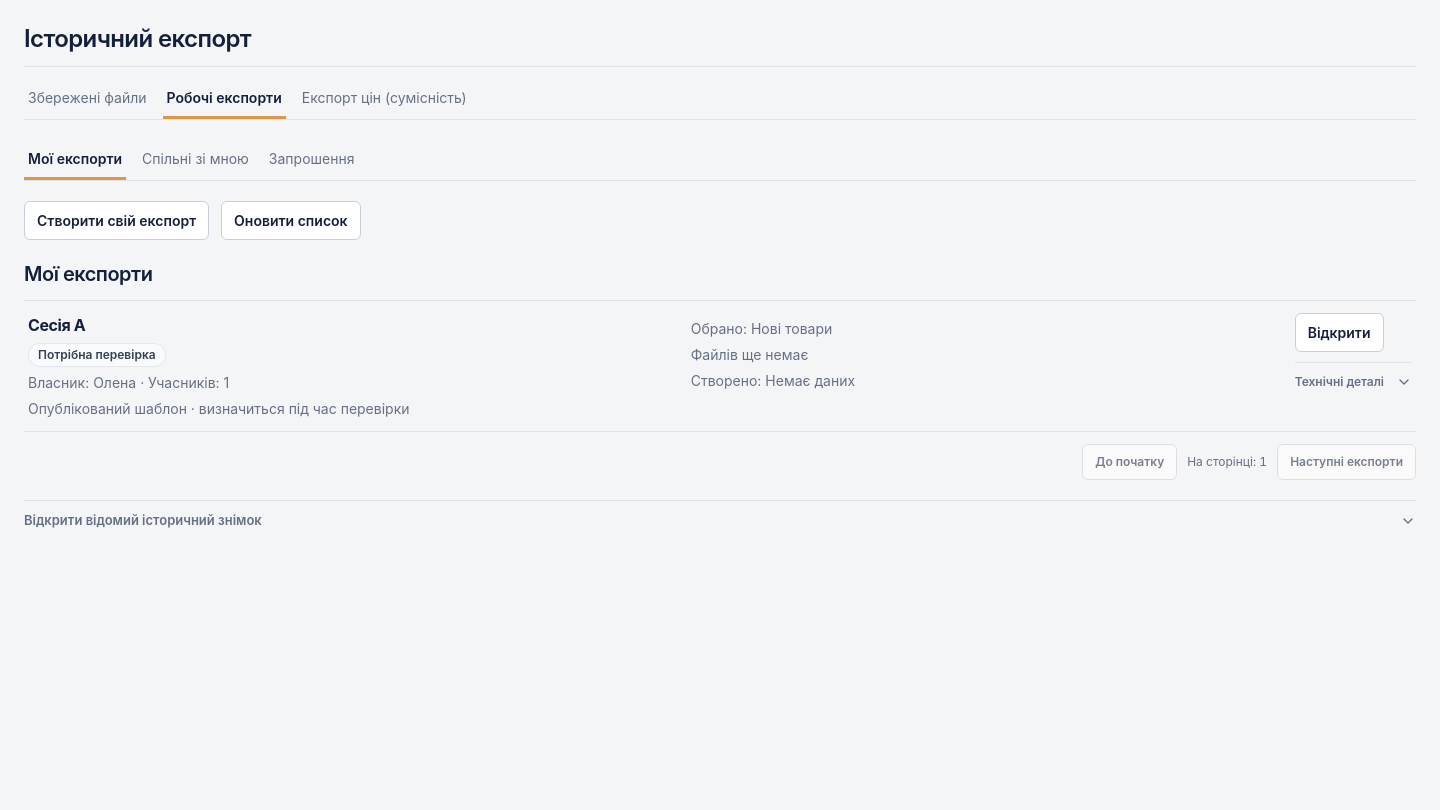
Test case: definitive creation validation failure allows correction, while unknown outcome retries the exact descriptor
Expected: the heading "Сесія A" is shown, [28,315,85,335]
Click the button "Створити свій експорт" at coordinates (117, 220), box [24,201,209,240]
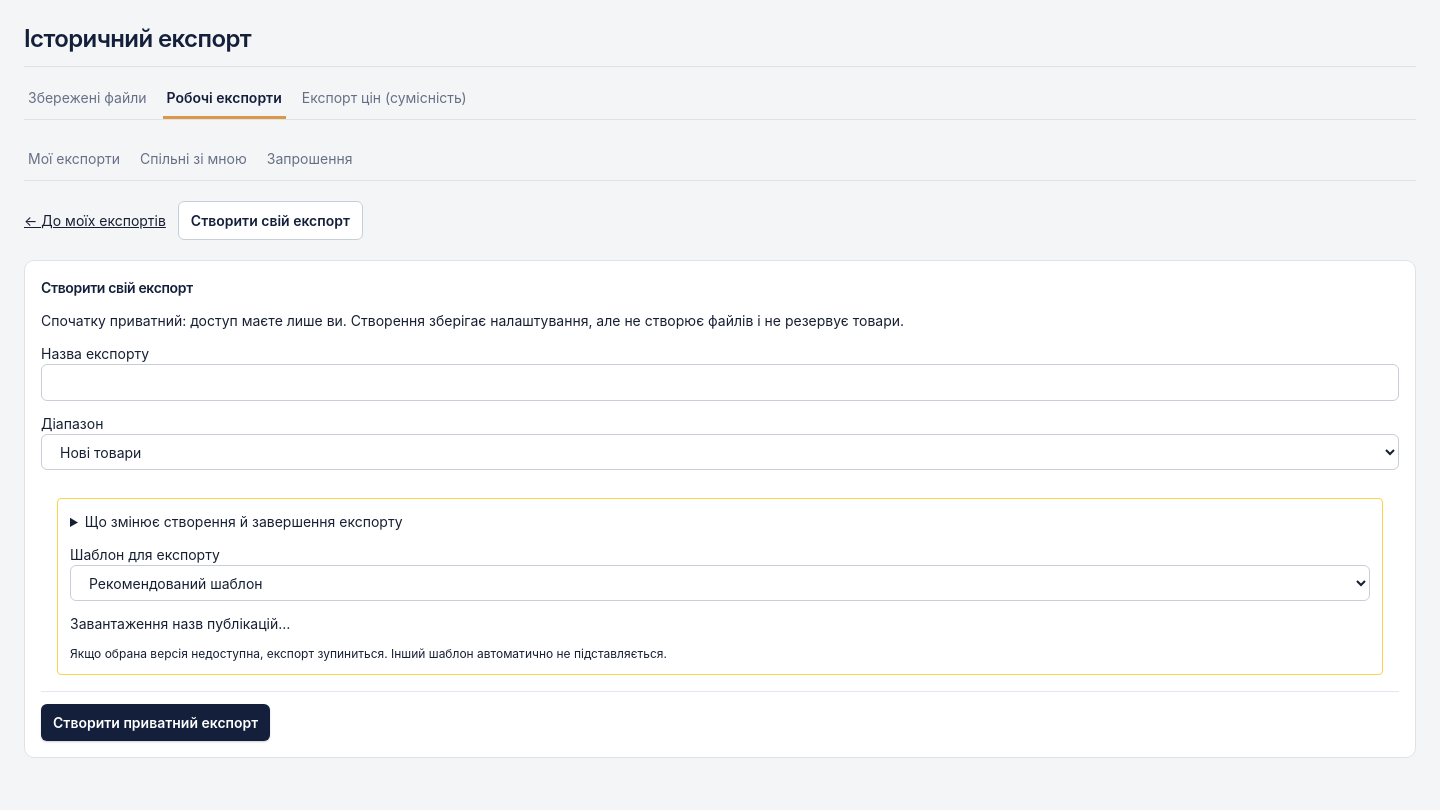
Type "Initial title" into the field labelled "Назва експорту" at coordinates (720, 382), box [41,364,1399,401]
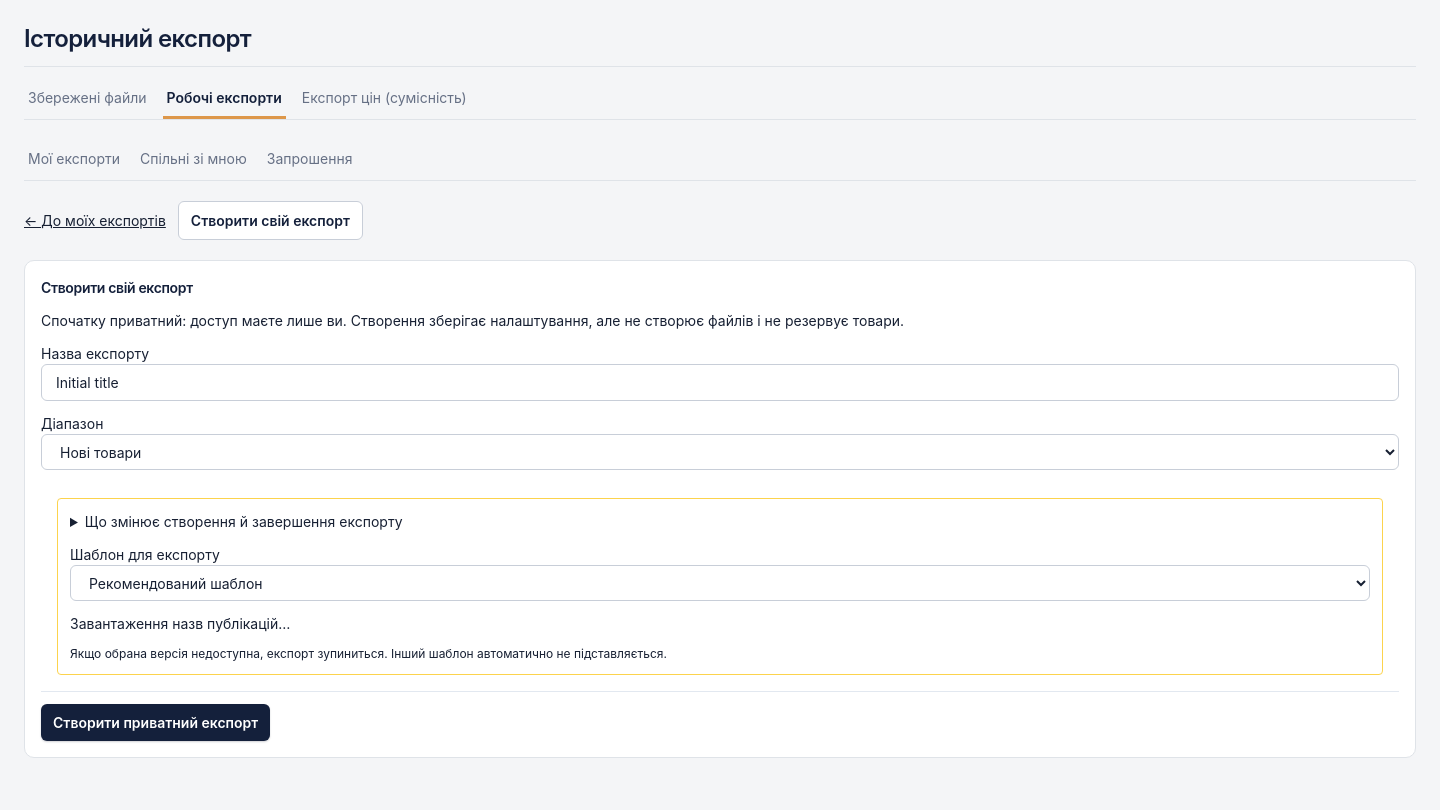
Click the button "Створити приватний експорт" at coordinates (156, 722), box [41,704,270,741]
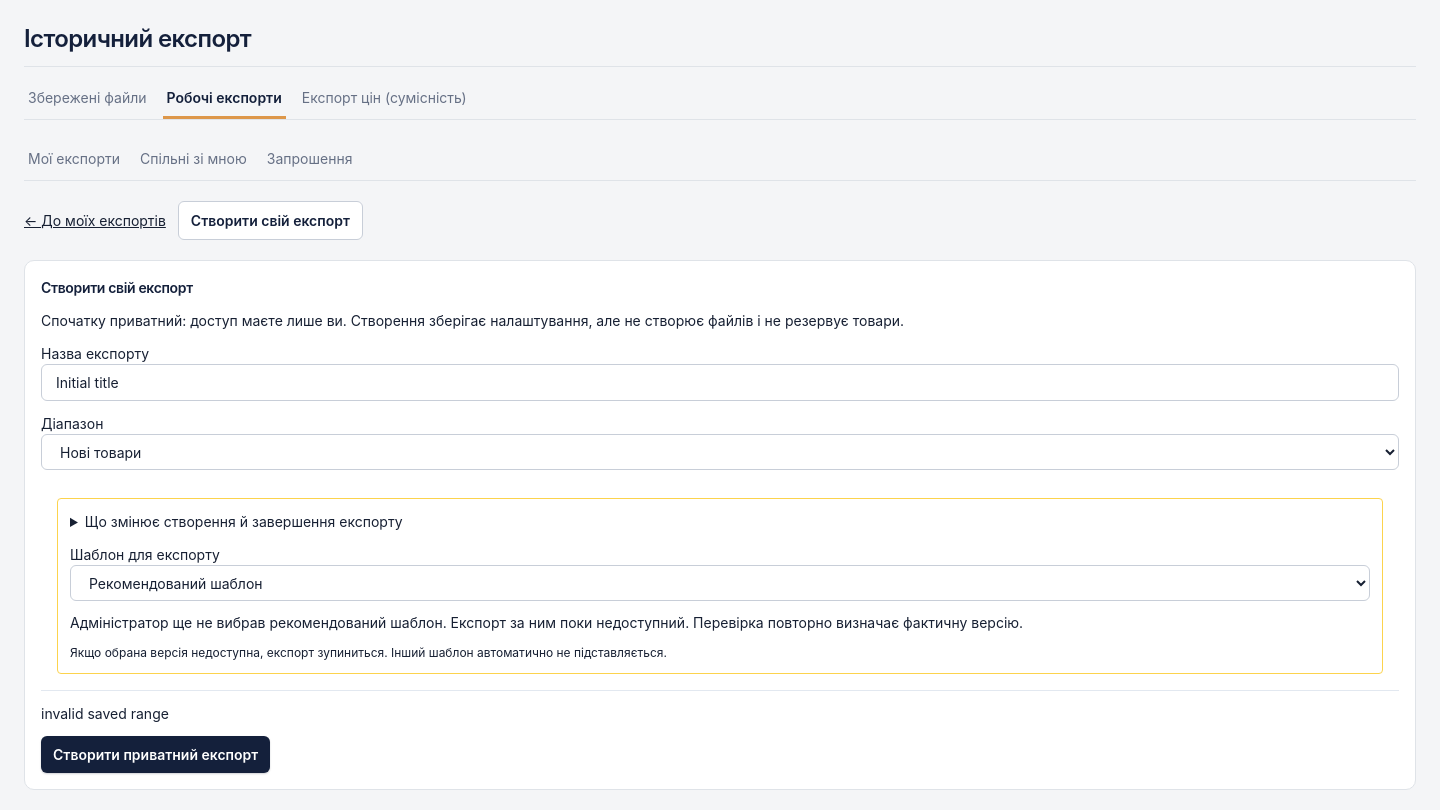
Expected: the element labelled "Назва експорту" is enabled, [41,343,1399,691]
Expected: the text "invalid saved range" is shown, [41,705,169,722]
Replace the text in the field labelled "Назва експорту" with "Corrected title" at coordinates (720, 382), box [41,364,1399,401]
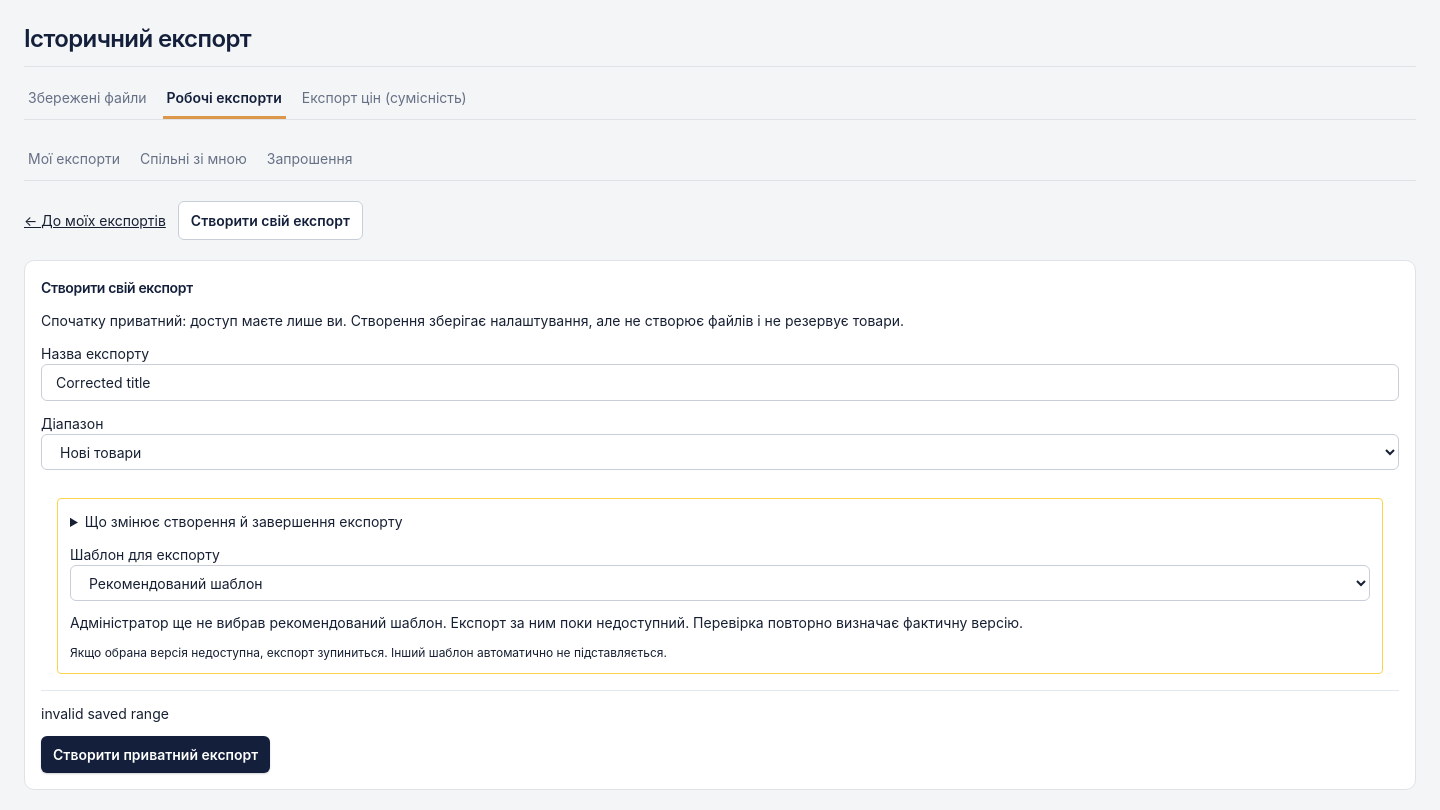
Click the button "Створити приватний експорт" at coordinates (156, 754), box [41,736,270,773]
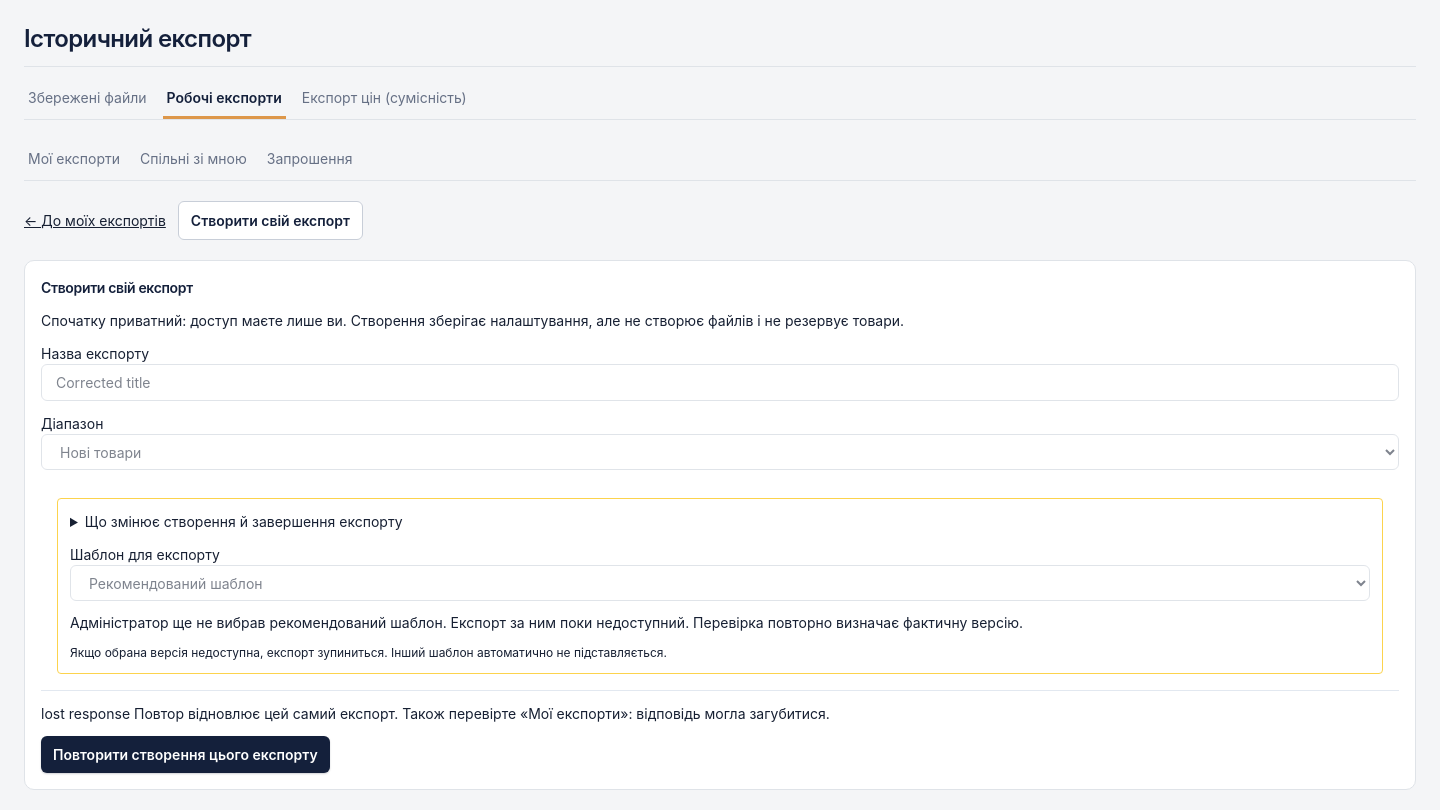
Expected: the text "lost response" is shown, [41,705,830,722]
Expected: the element labelled "Назва експорту" is disabled, [41,343,1399,691]
Click the button "Повторити створення цього експорту" at coordinates (185, 754), box [41,736,330,773]
(page scrolled)
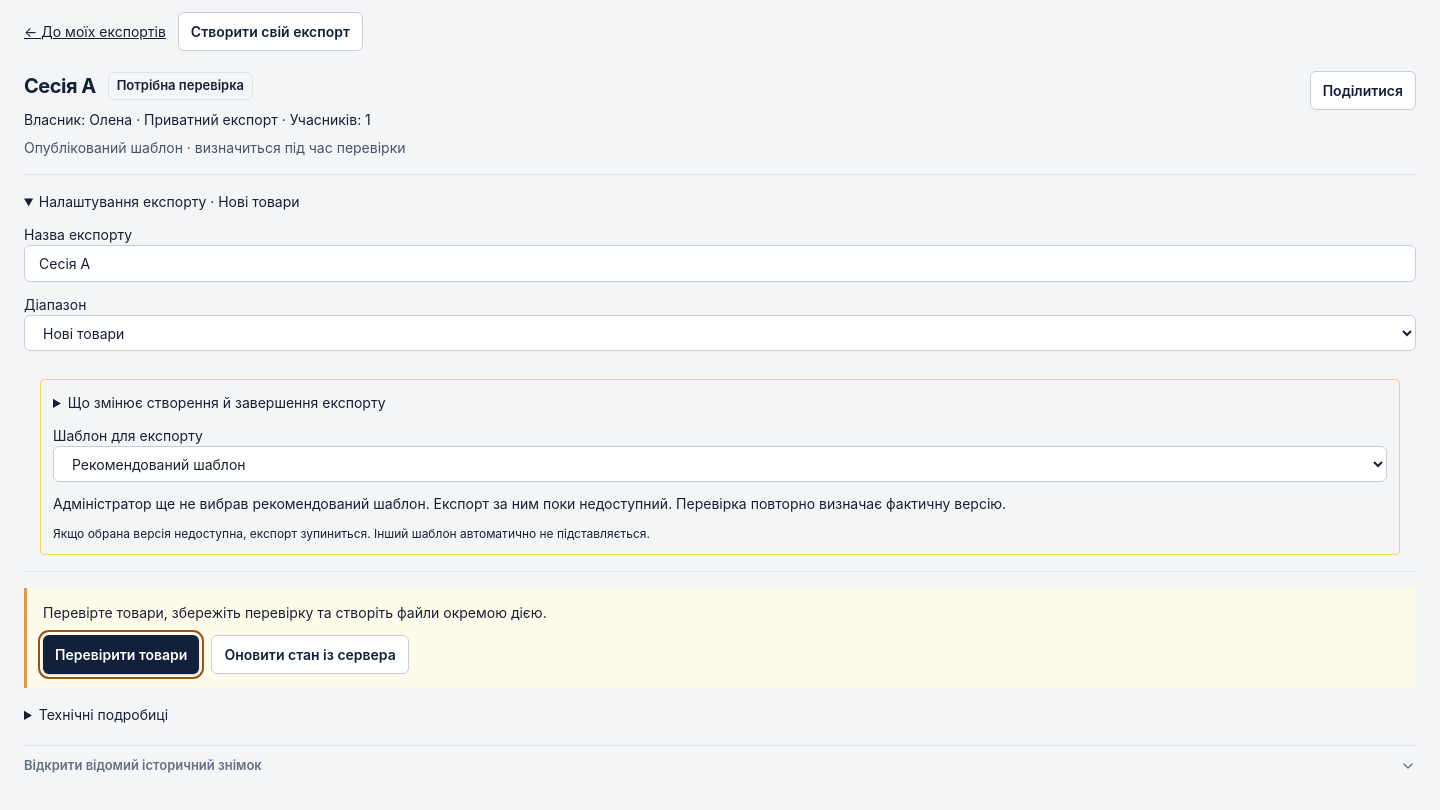
Expected: the heading "Сесія A" is shown, [24,71,96,101]
